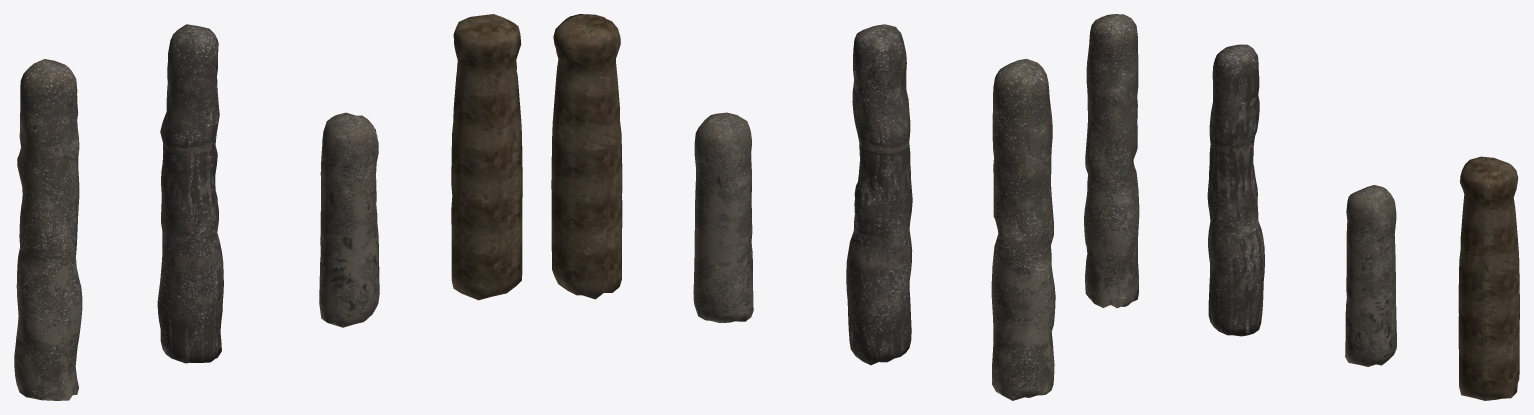
File: broken_medieval_column_set.glb
The picture shows the model from 3 angles, left to right: view 1: azimuth 30°, elevation 25°; view 2: azimuth 150°, elevation 25°; view 3: azimuth 330°, elevation 25°; orthographic projection. The views are drawn at different scales.
Parts seen in each view (by area): view 1: round pillar 2 low_round old pillar 1_0, round pillar 4 low_round old pillar 4_0, round pillar low_round old pillar 2_0, rpund pillar3 low_round old pillar 3_0; view 2: round pillar 2 low_round old pillar 1_0, round pillar low_round old pillar 2_0, round pillar 4 low_round old pillar 4_0, rpund pillar3 low_round old pillar 3_0; view 3: round pillar 2 low_round old pillar 1_0, round pillar low_round old pillar 2_0, round pillar 4 low_round old pillar 4_0, rpund pillar3 low_round old pillar 3_0.
Boxes of the visible parts, box(x1,y1,x2,y2) form: round pillar 2 low_round old pillar 1_0: box(14, 59, 82, 400); round pillar 4 low_round old pillar 4_0: box(451, 14, 522, 300); round pillar low_round old pillar 2_0: box(157, 24, 223, 363); rpund pillar3 low_round old pillar 3_0: box(319, 112, 379, 327); round pillar 2 low_round old pillar 1_0: box(991, 58, 1055, 400); round pillar low_round old pillar 2_0: box(846, 24, 912, 365); round pillar 4 low_round old pillar 4_0: box(551, 14, 622, 299); rpund pillar3 low_round old pillar 3_0: box(693, 112, 753, 322); round pillar 2 low_round old pillar 1_0: box(1084, 14, 1139, 308); round pillar low_round old pillar 2_0: box(1207, 44, 1264, 336); round pillar 4 low_round old pillar 4_0: box(1458, 156, 1519, 400); rpund pillar3 low_round old pillar 3_0: box(1345, 185, 1396, 366).
Size of the model in its own units: 20.89 by 13.18 by 2.56.
4 materials, 4 textured.
